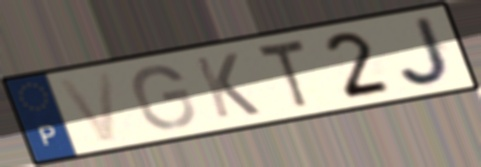2: (322, 29, 397, 101)
G: (129, 62, 200, 132)
J: (395, 13, 458, 89)
K: (190, 50, 264, 121)
T: (253, 36, 314, 112)
V: (53, 68, 122, 146)
